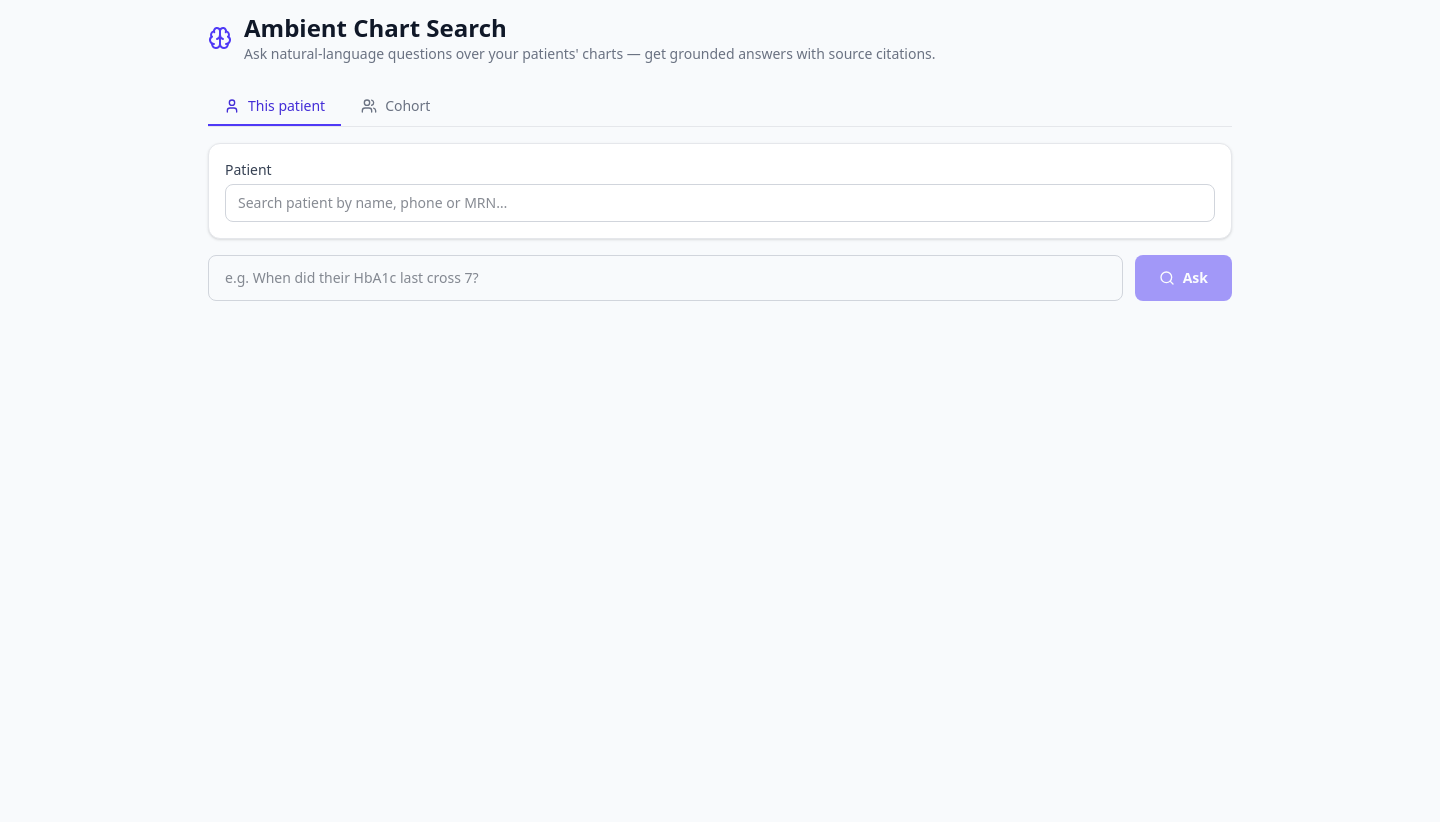
Test: Ambient Chart Search dashboard page › clicking a citation chip expands the cited chunk preview; clicking again collapses
Click the tab "Cohort" at (396, 107), box [345,88,446,126]
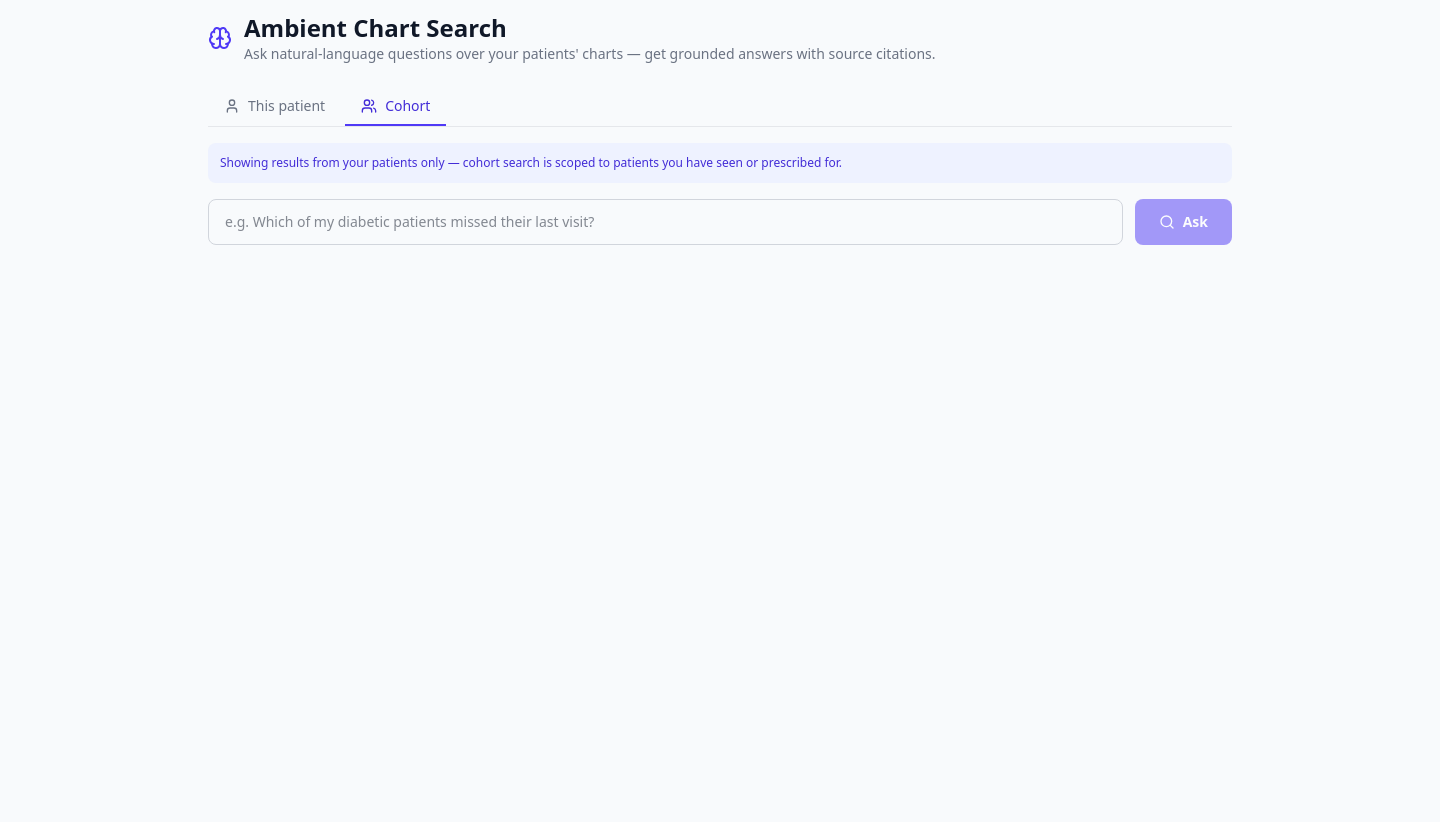
Type "Q" into the field with placeholder "e.g. Which of my diabetic patients missed their last visit?" at (665, 222), box [208,199,1123,245]
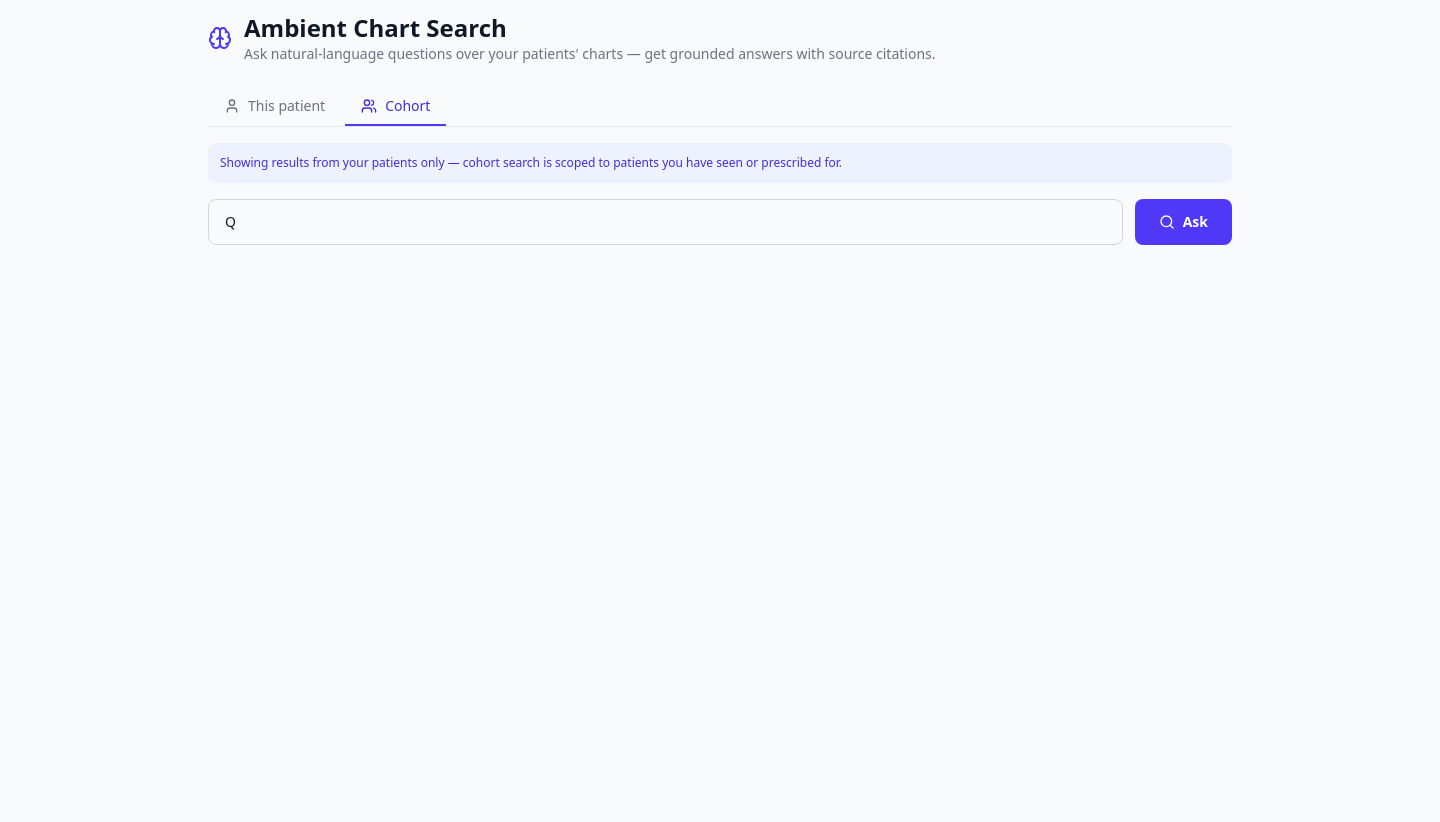
Click the button "Ask" at (1183, 222), box [1135,199,1232,245]
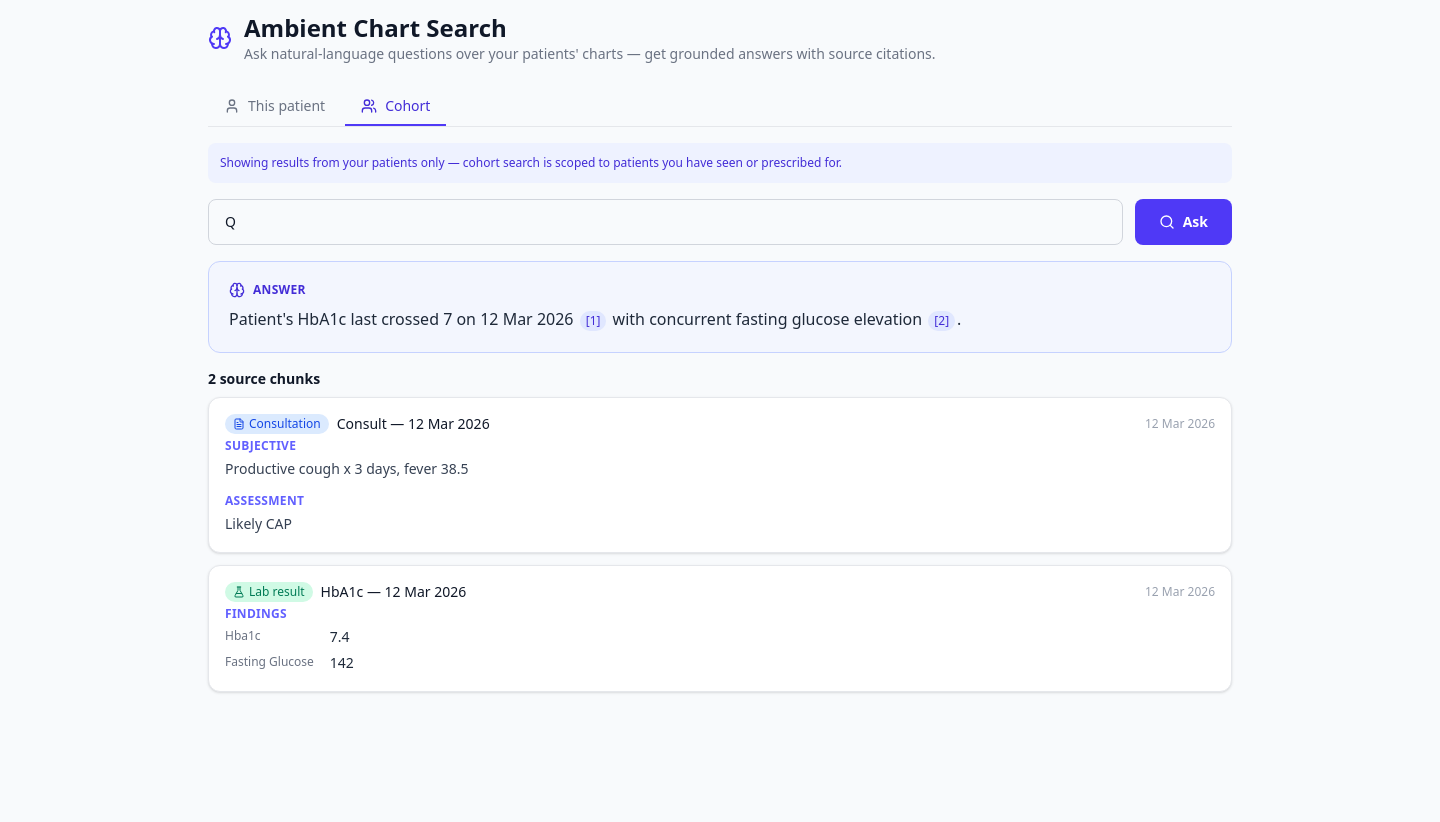
Click the button "[1]" at (593, 321), box [580,311,606,331]
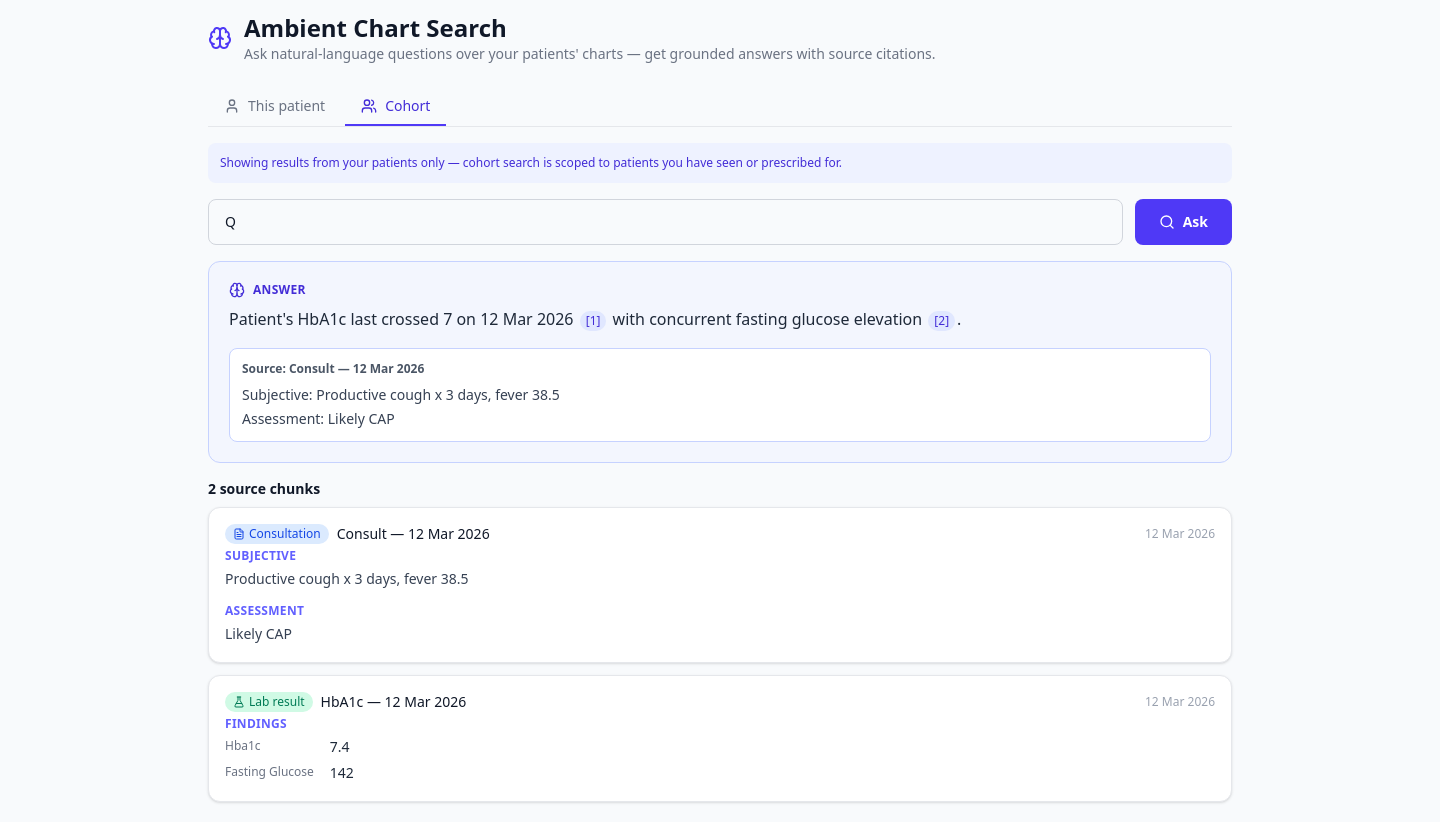
Expected: the text "Source: Consult — 12 Mar 2026" is shown, [242,360,424,377]
// Second click on the SAME chip collapses.
Click the button "[1]" at (593, 321), box [580,311,606,331]
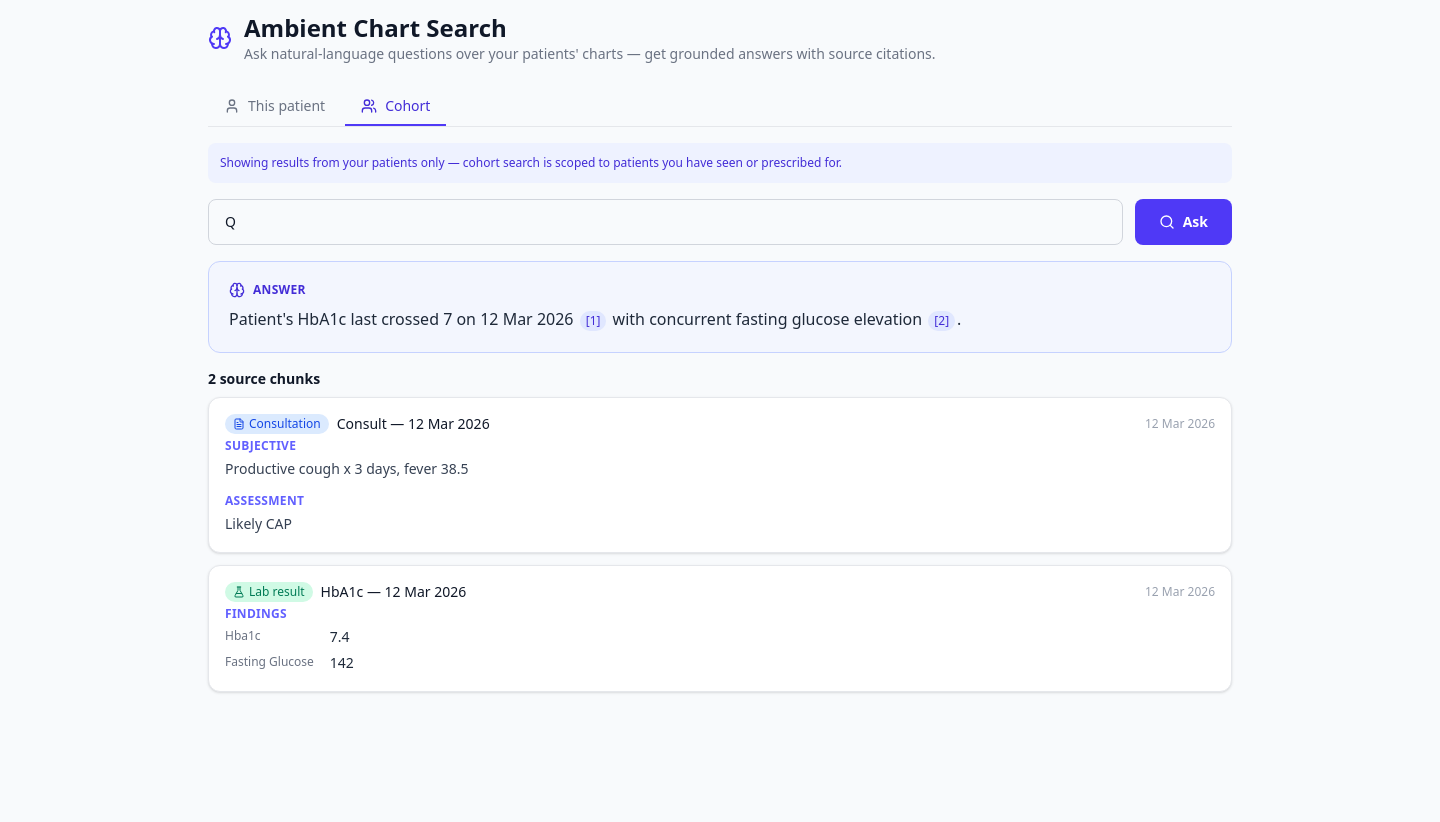
Expected: the text "Source: Consult — 12 Mar 2026" is gone
